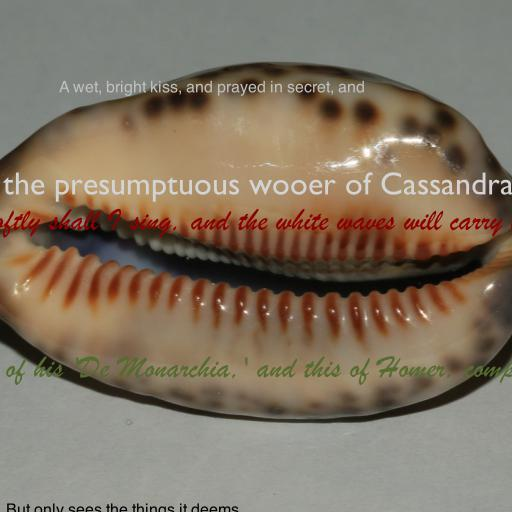Brush Script MT: (0, 208, 512, 238), (0, 356, 512, 386)
Gill Sans: (0, 172, 512, 202)
SignPainter: (59, 80, 365, 96), (5, 503, 239, 512)
